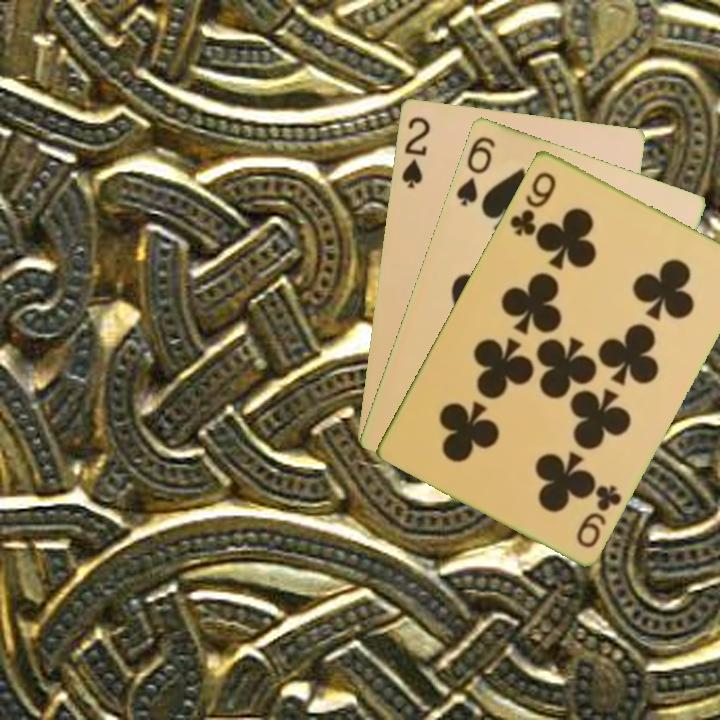2s: (398, 112, 433, 191)
6s: (452, 132, 499, 209)
9c: (506, 167, 559, 239), (572, 481, 625, 551)
